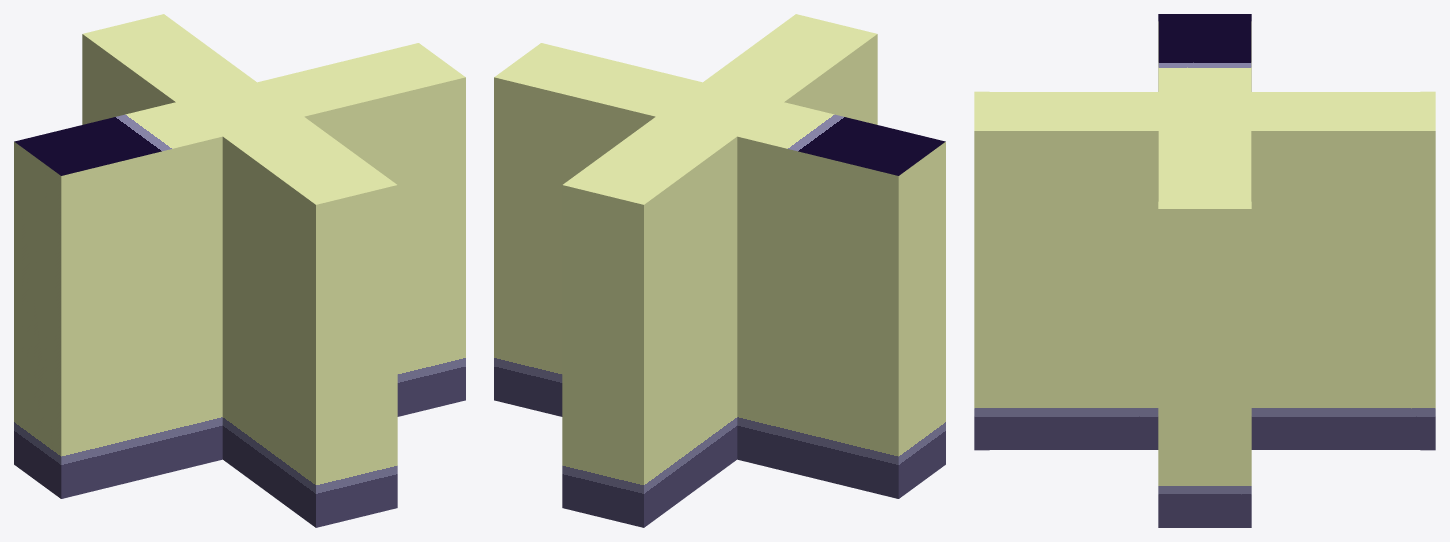
Rendered from BrickWallCenter.fbx.
The picture shows the model from 3 angles, left to right: view 1: azimuth 30°, elevation 25°; view 2: azimuth 150°, elevation 25°; view 3: azimuth 270°, elevation 25°; orthographic projection.
Visible parts, largest first — view 1: BrickWallCenter; view 2: BrickWallCenter; view 3: BrickWallCenter.
Part boxes in pixels (<box>): BrickWallCenter: <box>14,14,465,527</box>; BrickWallCenter: <box>494,14,945,527</box>; BrickWallCenter: <box>974,14,1435,527</box>.
Size of the model in its own units: 600 by 458 by 600.
